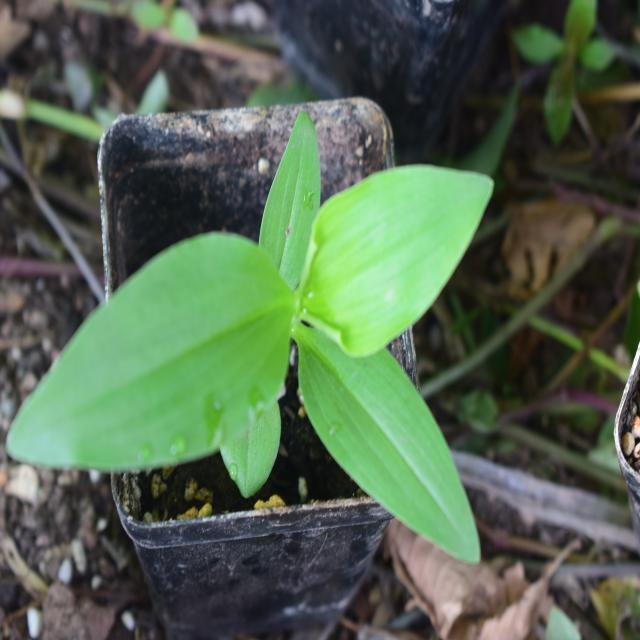Common Dayflower: (52, 151, 487, 584)
